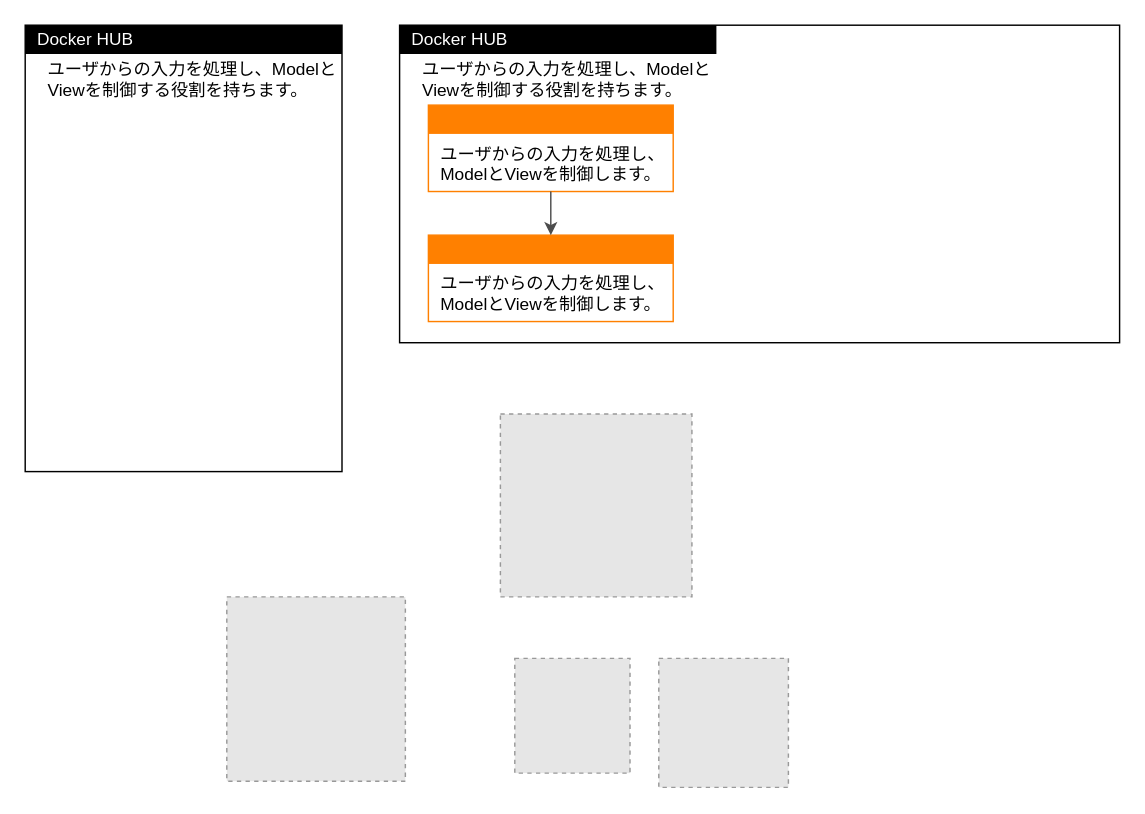
This 1145x814 diagram has some shape labels left out. Grey dashed boxes stand in for pictures. The shapes that lost their labels are listed below. From the top down, each one's centre as x and y in pixels, then its label:
At point 550,118: "urls.py".
At point 550,248: "views.py".
